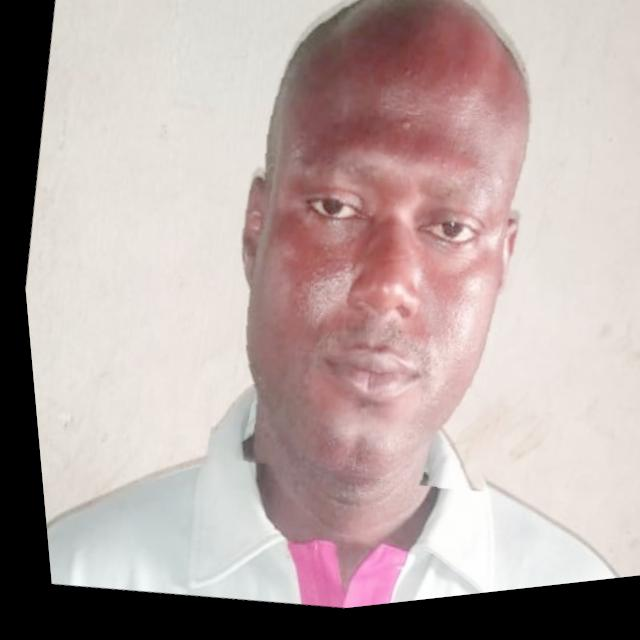sad: (169, 0, 591, 526)
